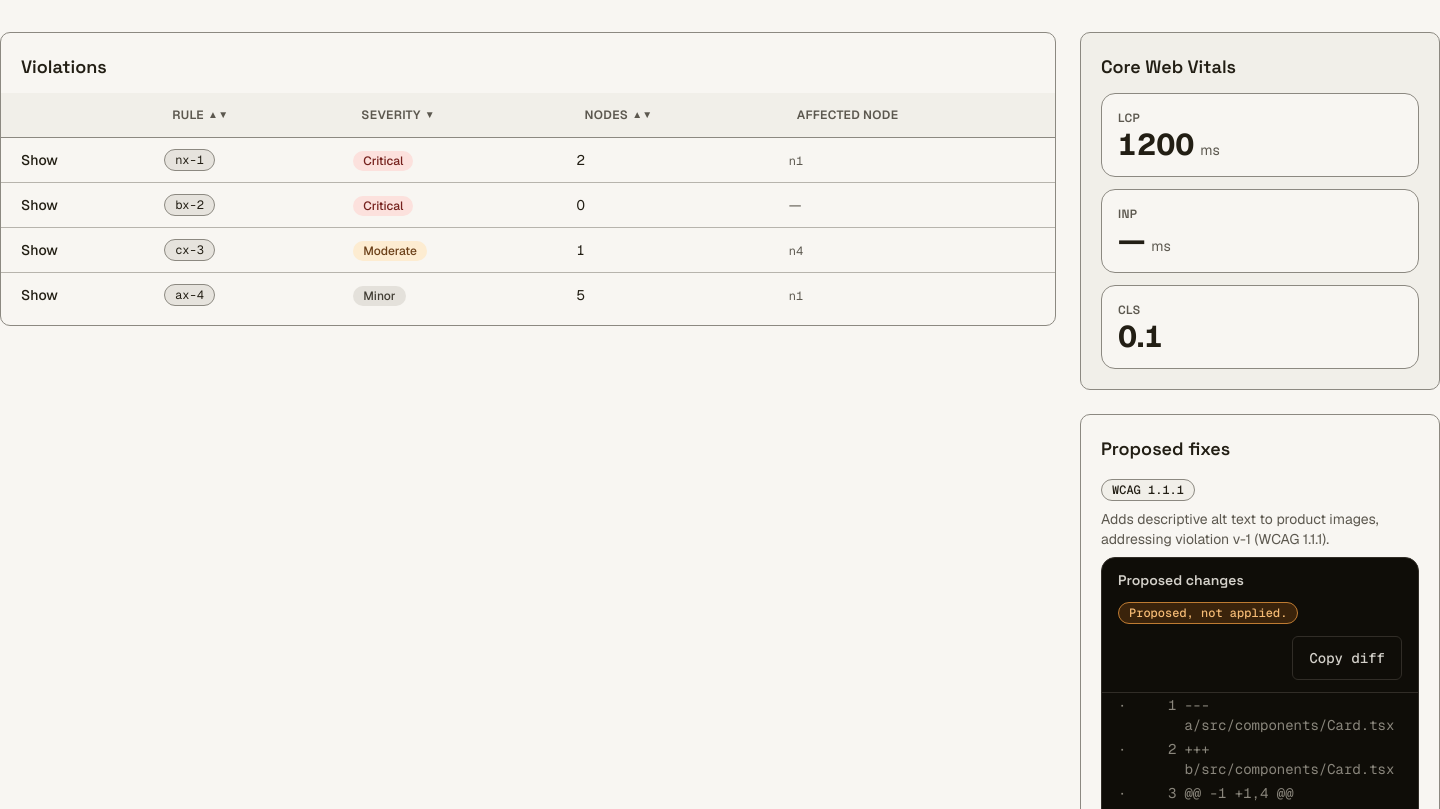
Scenario: DeveloperView › HAPPY_PATH: rows show rule ID (mono), severity chip, node count, and expandable detail
Expected: the text "Violation nx-1" is not shown
Step 1. Click the text "nx-1" → (190, 160), box [164,149,215,171]
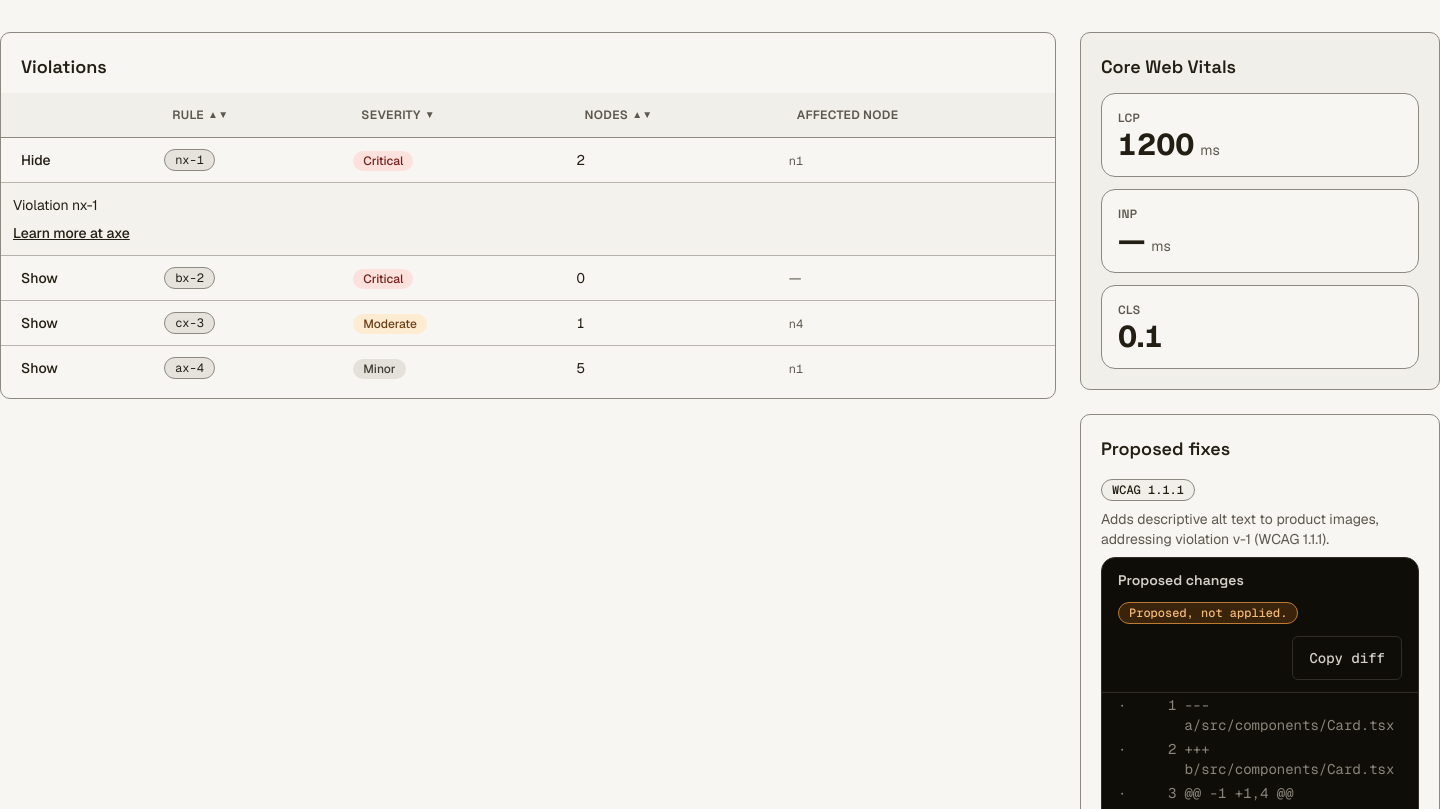
Expected: the text "Violation nx-1" is shown, [13,196,98,214]
